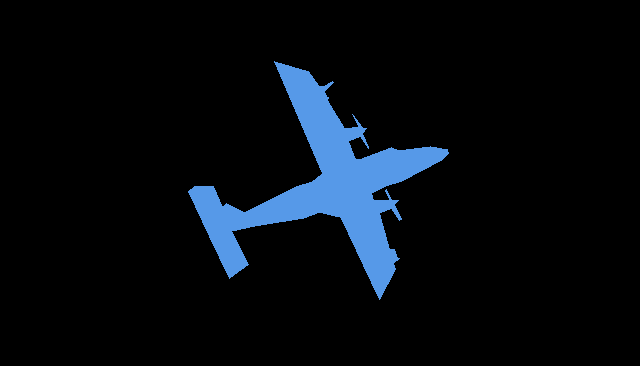Airplane: (188, 61, 449, 299)
